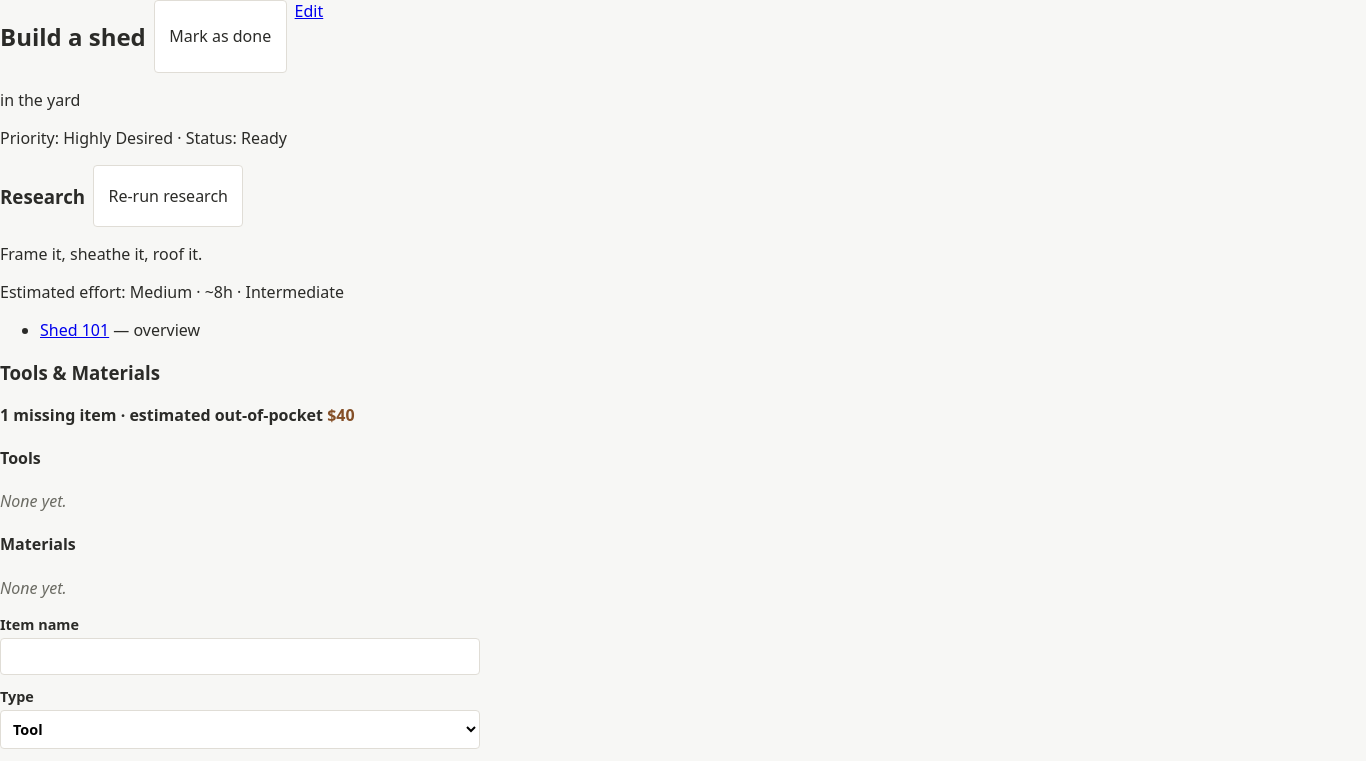
Test: ProjectDetailPage › opens a pre-checked completion modal and completes with the checked tools
Expected: the heading "Build a shed" is shown, x1=0 y1=20 x2=146 y2=53
Click the button "Mark as done" at (220, 36), box x1=154 y1=0 x2=287 y2=73
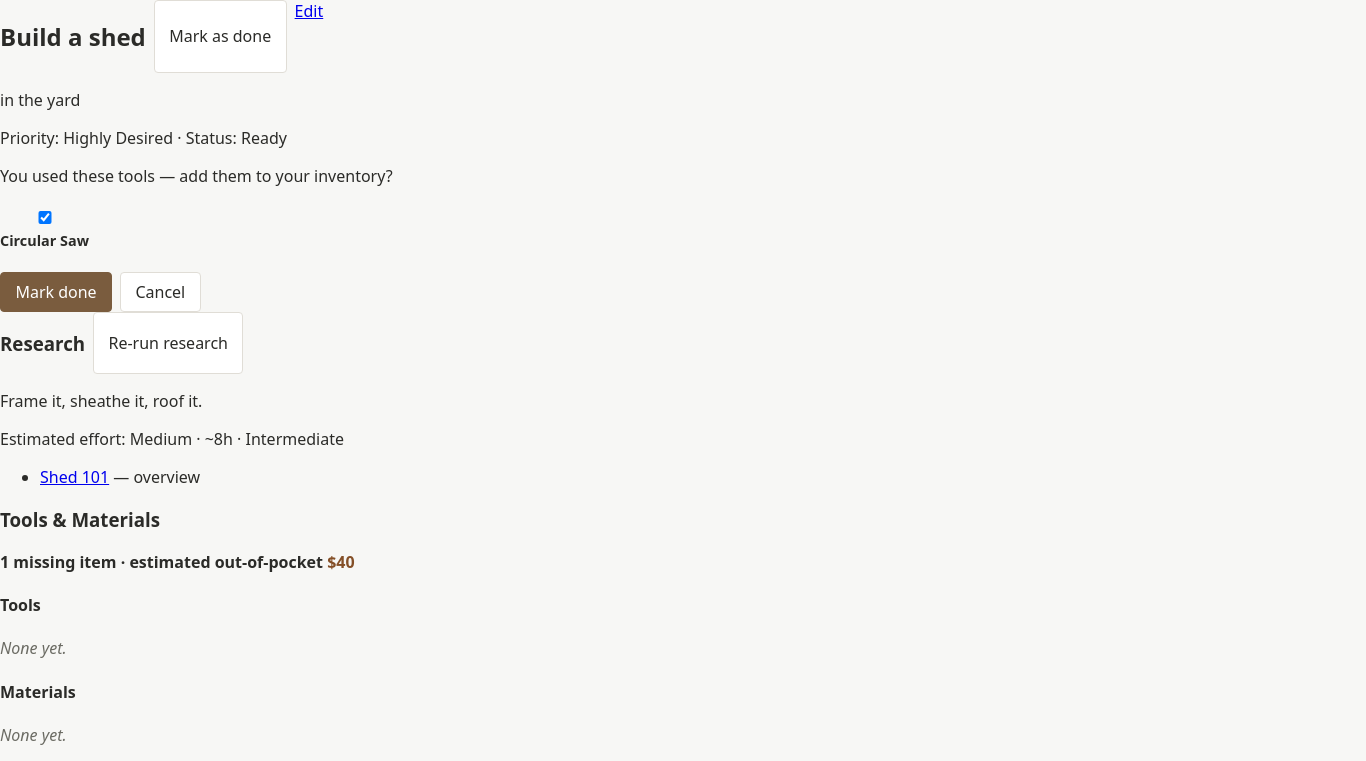
Expected: the checkbox is checked, x1=4 y1=211 x2=86 y2=224
Click the button "Mark done" at (56, 292), box x1=0 y1=272 x2=112 y2=312
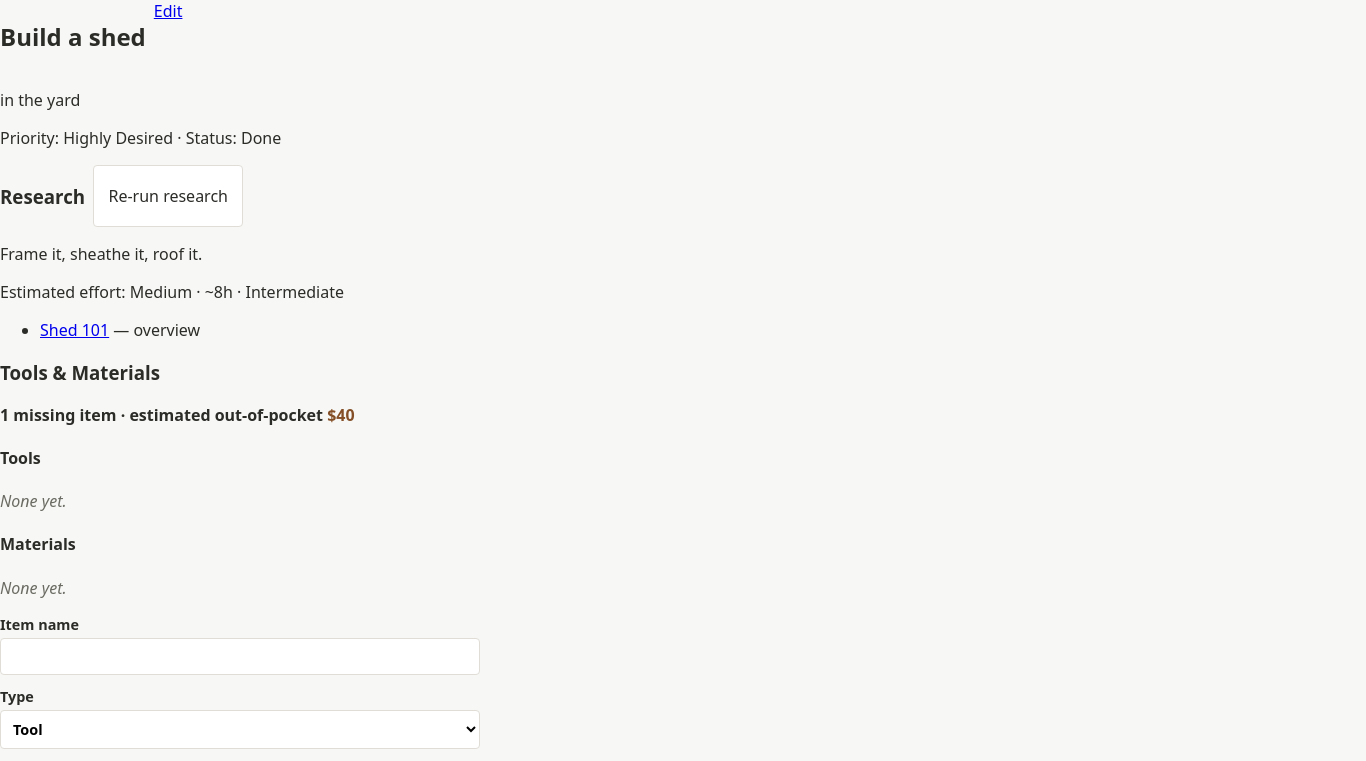
Expected: the text "Priority: Highly Desired · Status: Done" is shown, x1=0 y1=127 x2=281 y2=149
